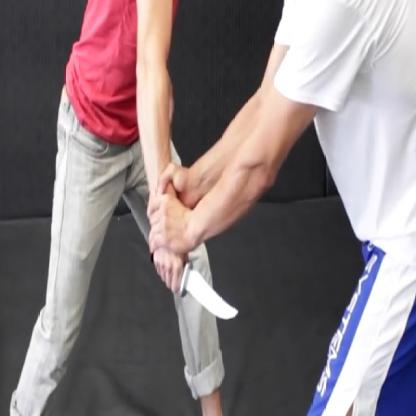knife: (144, 250, 244, 329)
